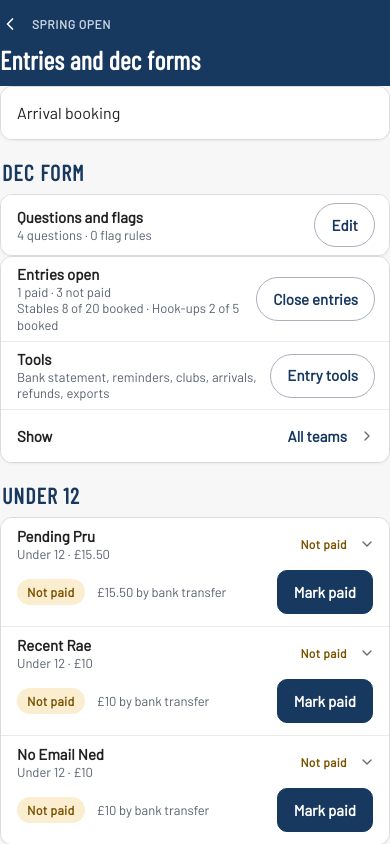
Scenario: Entry tools › reminds only people with an email who have not been reminded today, after asking
The image size is (390, 844).
Click the button "Entry tools" at (323, 376), box [270,354,375,398]
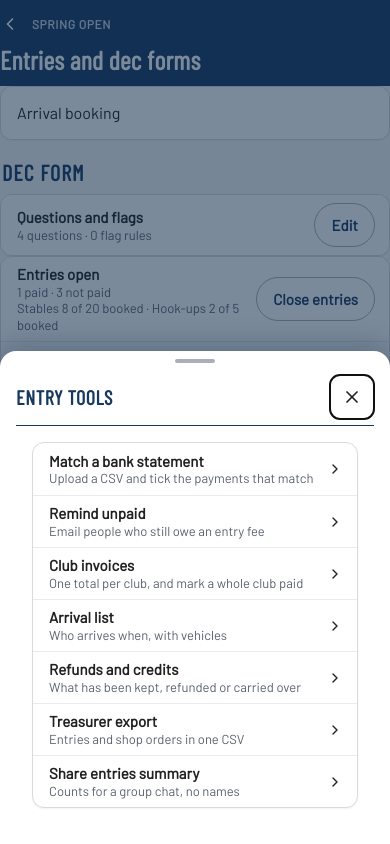
Click the button "Remind unpaid Email people who still owe an entry fee" at (195, 521), box [33,495,357,547]
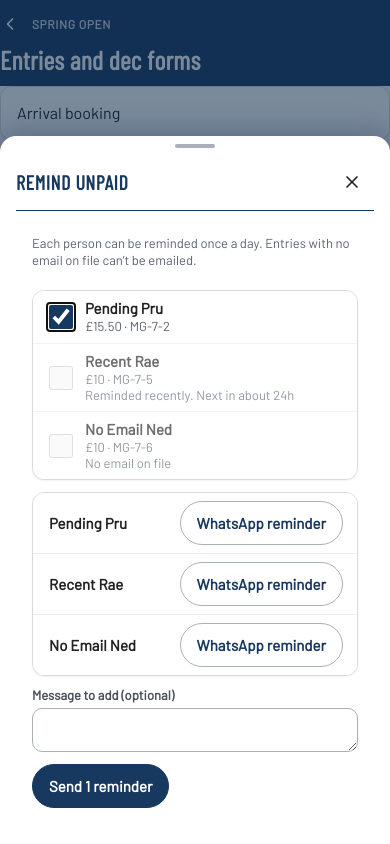
Expected: the text "No email on file" is shown, [85,455,171,471]
Expected: the text "Reminded recently. Next in about 24h" is shown, [85,387,294,403]
Expected: the checkbox named "Remind Recent Rae" is disabled, [49,366,73,390]
Click the button "Send 1 reminder" at (101, 786), box [32,764,169,808]
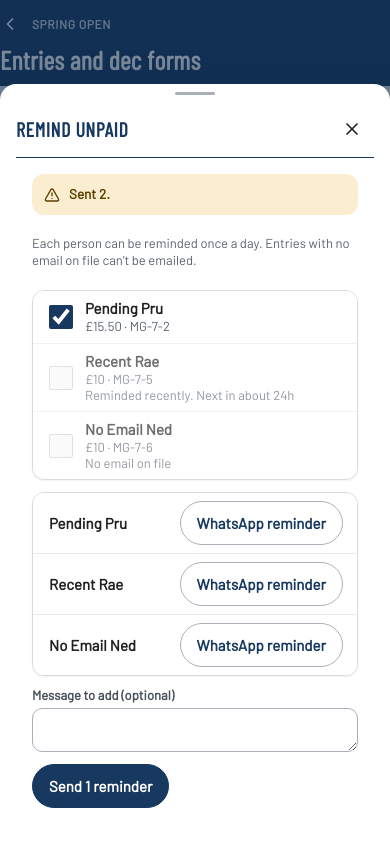
Expected: the text "Sent 2." is shown, [69,185,110,204]
